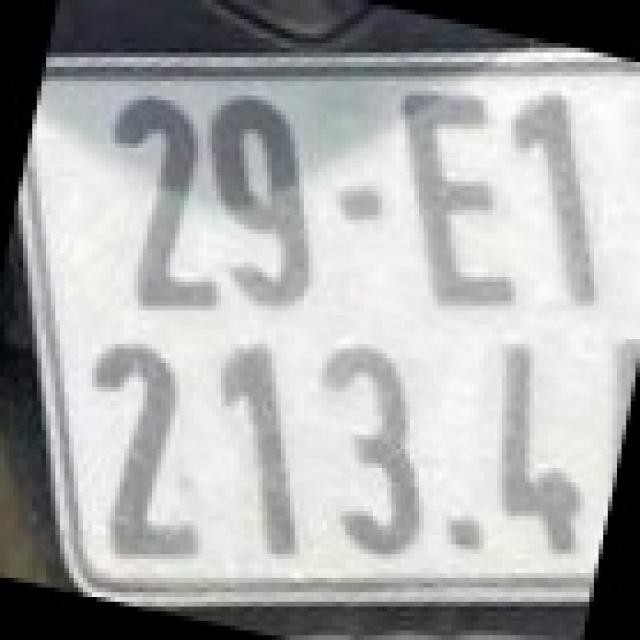1: (212, 339, 308, 564), (511, 86, 608, 306)
2: (88, 334, 208, 564), (106, 90, 221, 316)
3: (313, 339, 428, 554)
4: (488, 334, 590, 559)
9: (207, 90, 318, 310)
E: (400, 86, 520, 310)
